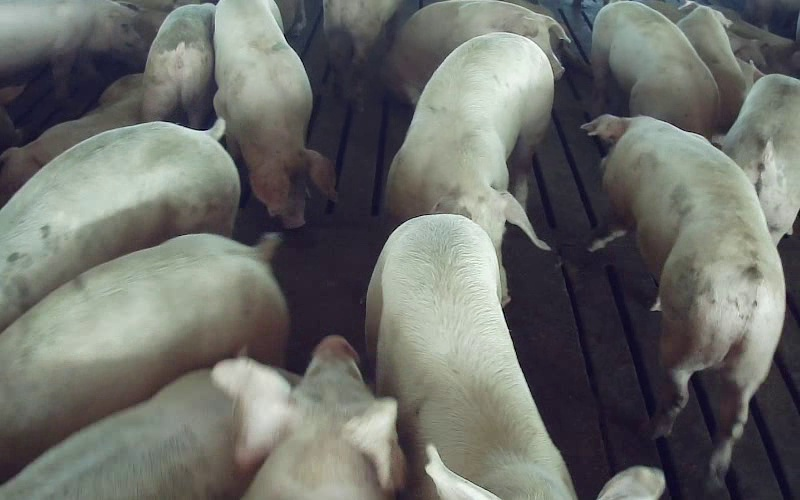pig: (582, 115, 784, 486), (0, 235, 288, 481), (366, 215, 574, 499), (0, 120, 239, 330), (212, 336, 404, 499), (0, 370, 242, 499), (214, 0, 335, 226), (383, 0, 569, 103), (592, 2, 718, 137), (722, 74, 799, 244), (677, 0, 746, 131), (142, 3, 214, 128)
